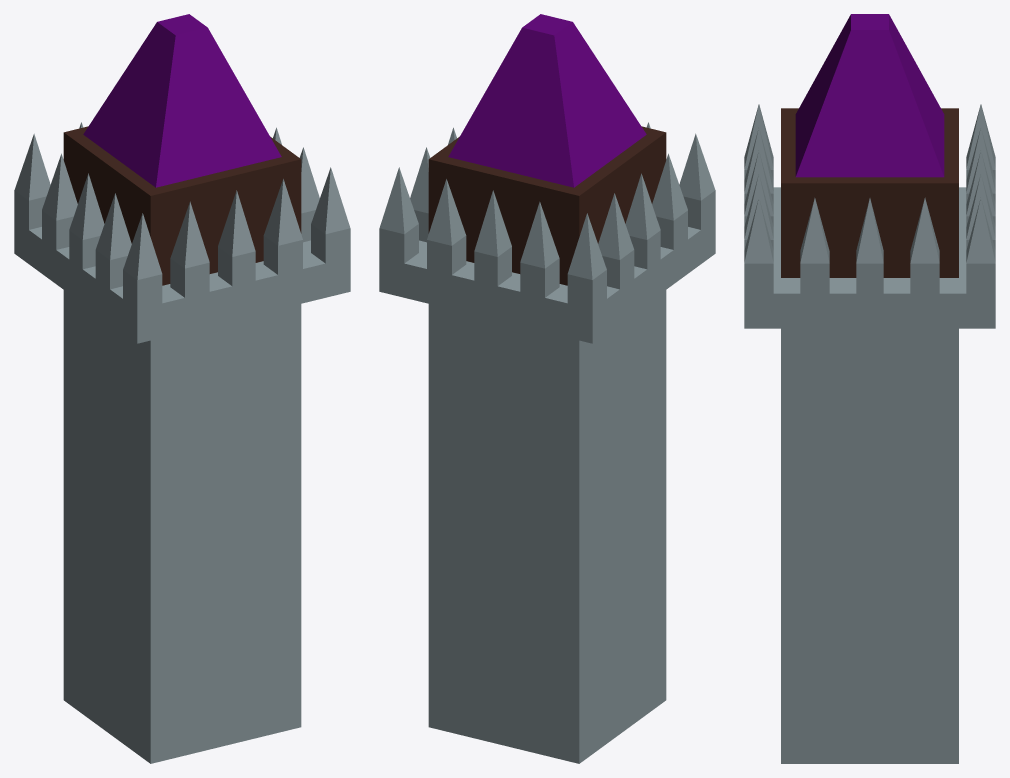
File: BasicTowerWithUpgrade.fbx
3 renders of one model, left to right at view 1: azimuth 30°, elevation 25°; view 2: azimuth 150°, elevation 25°; view 3: azimuth 270°, elevation 25°, orthographic. The views are drawn at different scales.
Parts seen in each view (by area): view 1: Tower, Tower Upgrade; view 2: Tower, Tower Upgrade; view 3: Tower, Tower Upgrade.
Part boxes in pixels (<box>): Tower: <box>14,190,350,763</box>; Tower Upgrade: <box>14,14,350,748</box>; Tower: <box>379,190,715,763</box>; Tower Upgrade: <box>379,14,715,750</box>; Tower: <box>744,170,995,763</box>; Tower Upgrade: <box>744,14,995,763</box>.
Size of the model in its own units: 283 by 875 by 283.
